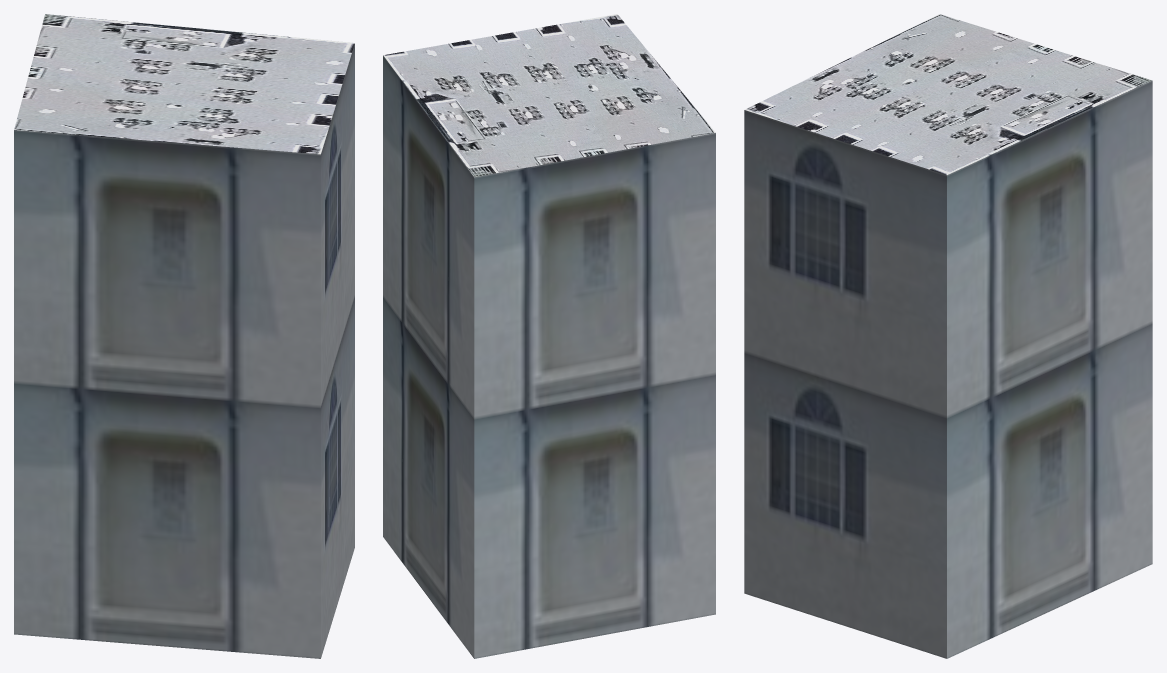
File: ResTex__131.fbx
The picture shows the model from 3 angles, left to right: view 1: azimuth 30°, elevation 25°; view 2: azimuth 150°, elevation 25°; view 3: azimuth 270°, elevation 25°; orthographic projection. The views are drawn at different scales.
Visible parts, largest first — view 1: CityEngineMaterial_17_m, CityEngineMaterial_8_m; view 2: CityEngineMaterial_17_m, CityEngineMaterial_8_m; view 3: CityEngineMaterial_17_m, CityEngineMaterial_8_m.
Part boxes in pixels (x1,y1,x2,y2): CityEngineMaterial_17_m: (14,44,354,658); CityEngineMaterial_8_m: (14,14,354,154); CityEngineMaterial_17_m: (383,55,715,658); CityEngineMaterial_8_m: (383,14,715,177); CityEngineMaterial_17_m: (744,80,1152,658); CityEngineMaterial_8_m: (745,14,1152,174).
Size of the model in its own units: 4.29 by 6 by 4.59.
2 materials, 2 textured.
